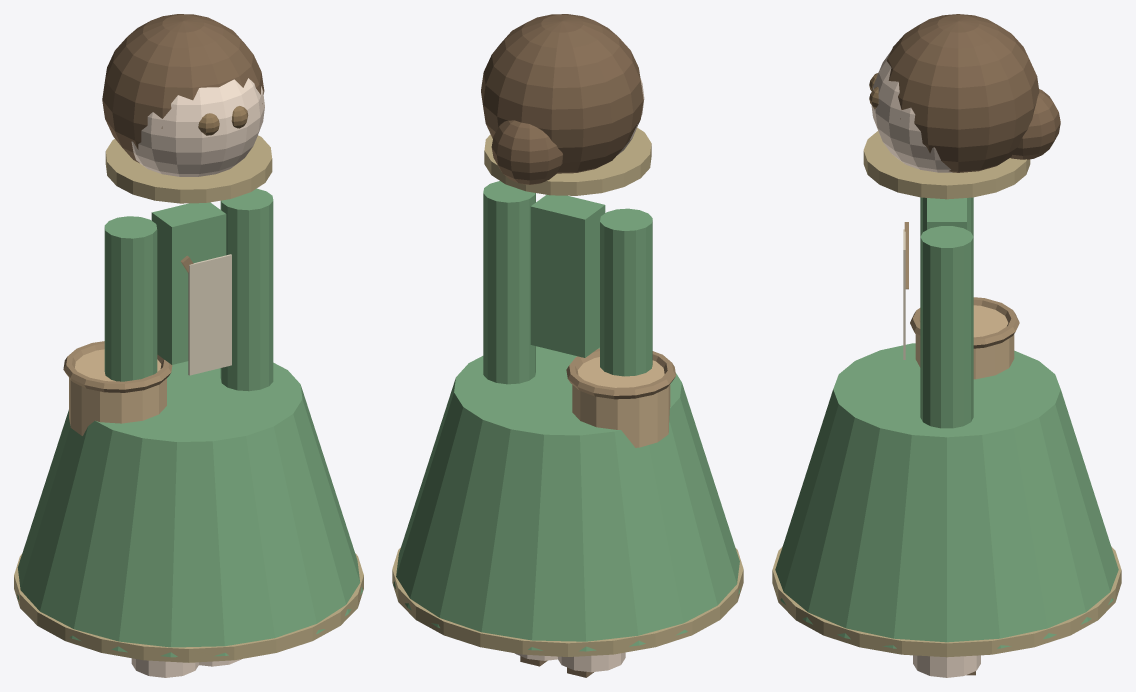
File: Anastasia.fbx
3 renders of one model, left to right at view 1: azimuth 30°, elevation 25°; view 2: azimuth 150°, elevation 25°; view 3: azimuth 270°, elevation 25°, orthographic.
Visible parts, largest first — view 1: Anastasia; view 2: Anastasia; view 3: Anastasia.
Part boxes in pixels (bbox=[...]): Anastasia: bbox=[14, 14, 363, 677]; Anastasia: bbox=[392, 14, 743, 677]; Anastasia: bbox=[772, 14, 1121, 677].
Size of the model in its own units: 156 by 315 by 156.
